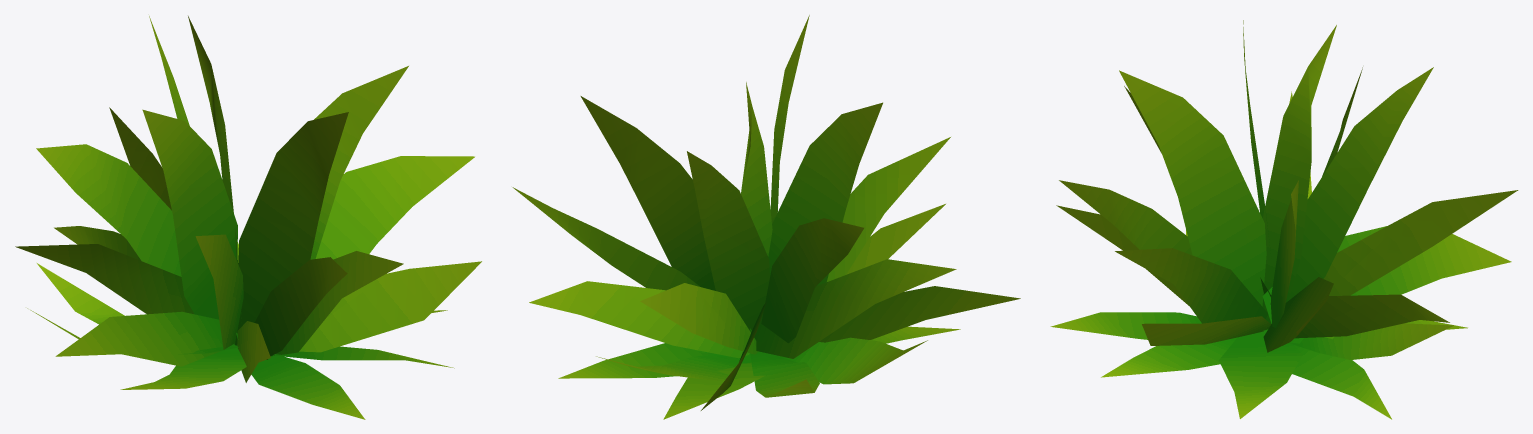
File: ArPlusStartPoint.fbx
3 views of the same model, side by side, from view 1: azimuth 30°, elevation 25°; view 2: azimuth 150°, elevation 25°; view 3: azimuth 270°, elevation 25° (orthographic). The views are drawn at different scales.
Visible parts, largest first — view 1: ArPlusStartPoint; view 2: ArPlusStartPoint; view 3: ArPlusStartPoint.
Part boxes in pixels (<box>): ArPlusStartPoint: <box>15,16,481,419</box>; ArPlusStartPoint: <box>512,15,1020,419</box>; ArPlusStartPoint: <box>1050,20,1518,419</box>.
Size of the model in its own units: 0.6261 by 0.4154 by 0.5558.
